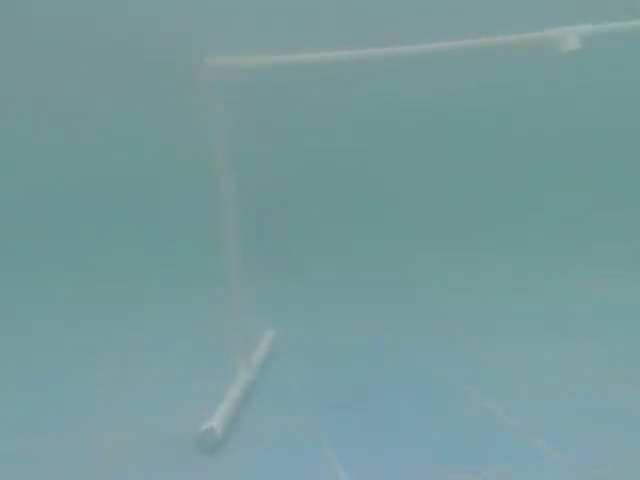gate: (146, 6, 640, 480)
